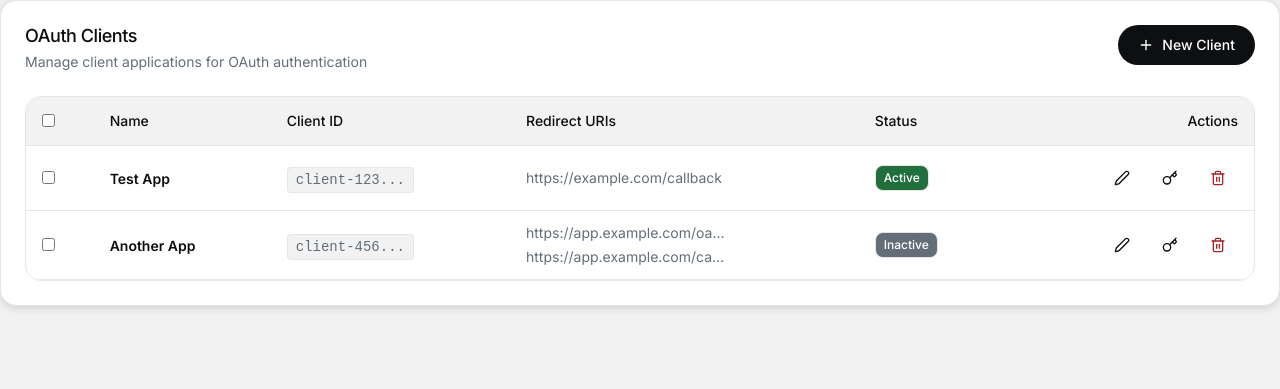
Scenario: ClientManagement › Delete Client › should display error when delete fails
The image size is (1280, 389).
Expected: the text "Test App" is shown, [110,170,170,186]
What coordinates should you click on to do the following:
click the button titled "delete client" in the row of "Test App"
I would click on:
 (1218, 178)
Its box is [1198,158,1238,198].
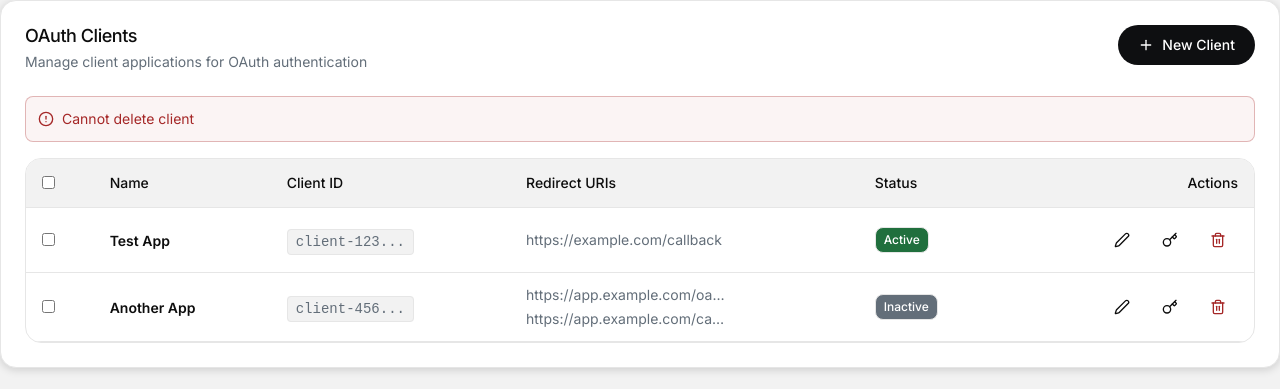
Expected: the text "Cannot delete client" is shown, [62,108,194,128]
